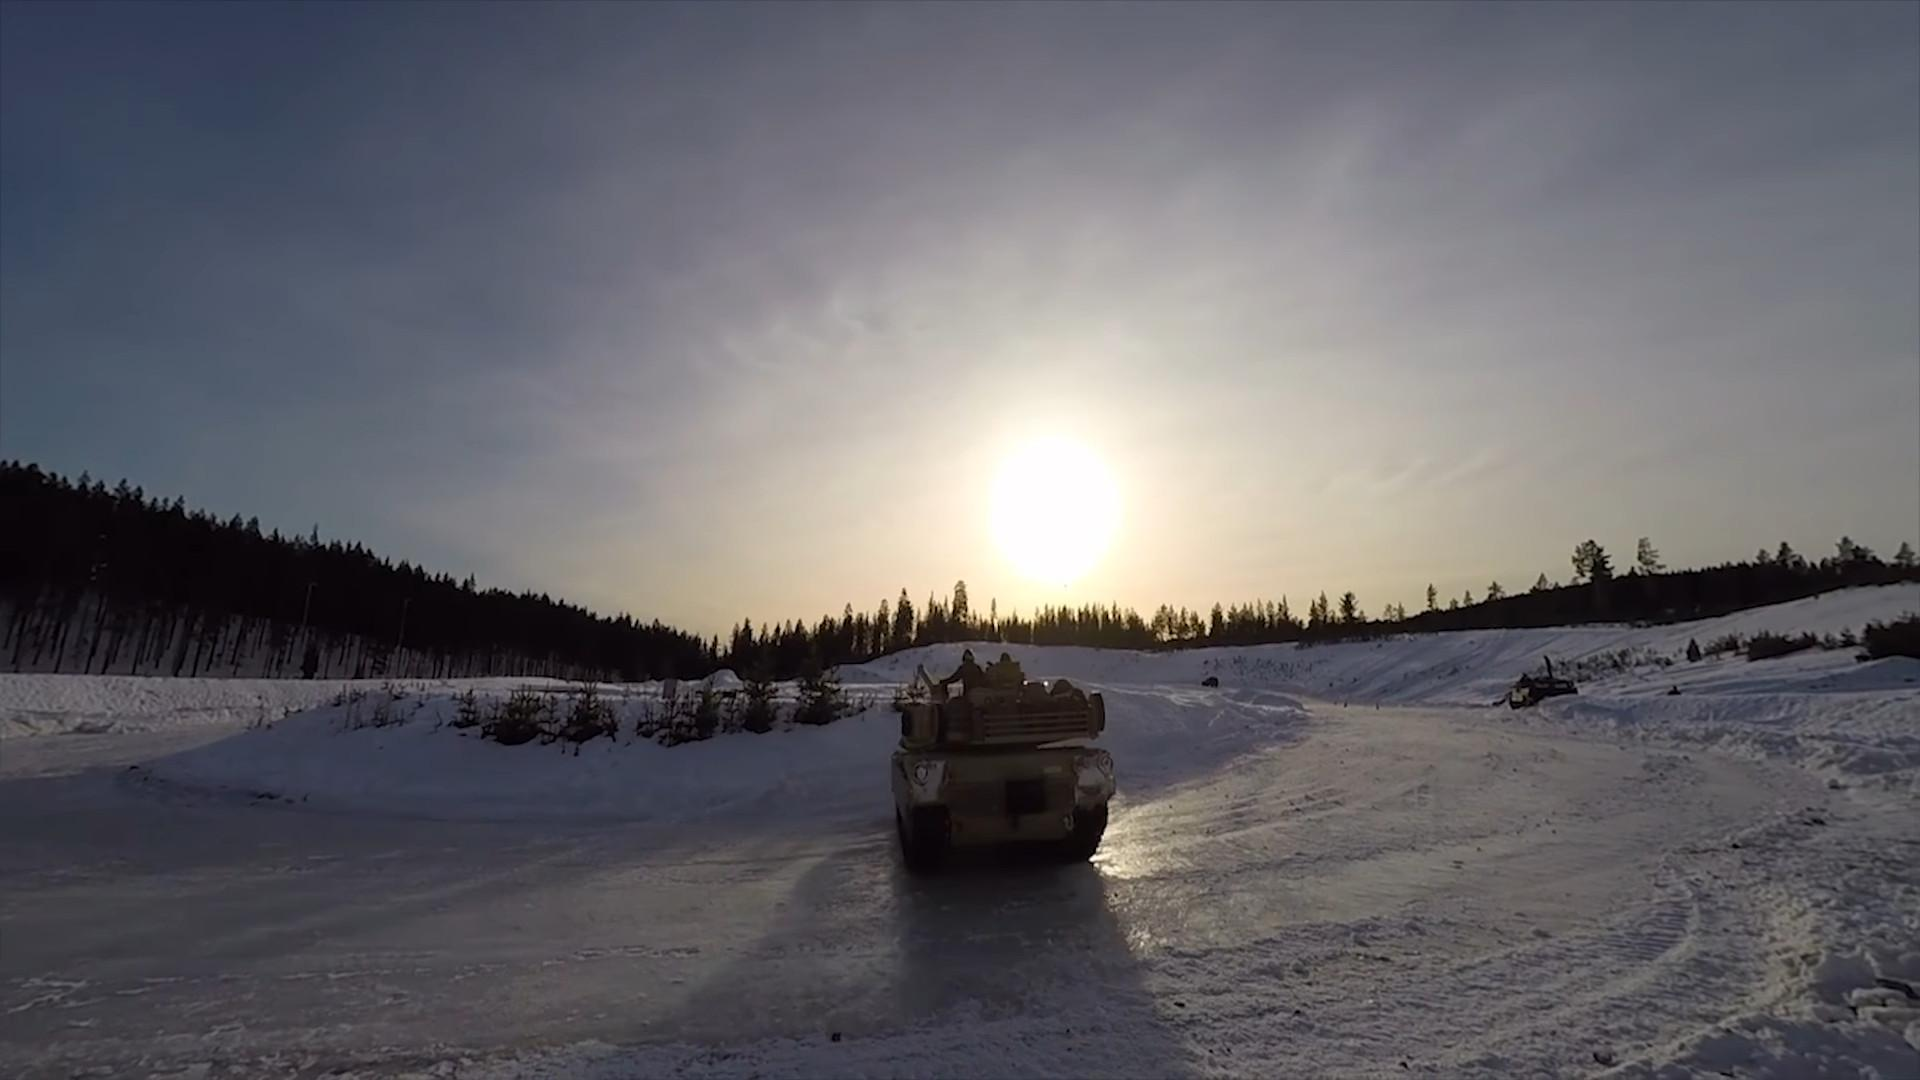tank: (889, 661, 1118, 873)
